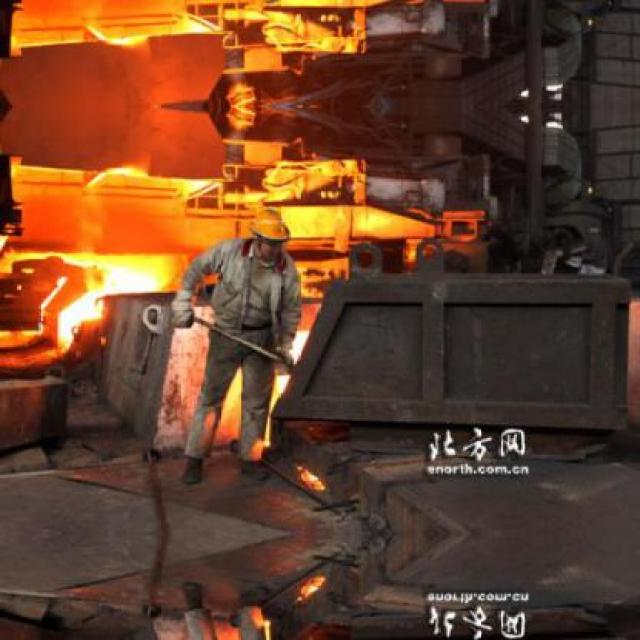helmet: (242, 205, 290, 259)
